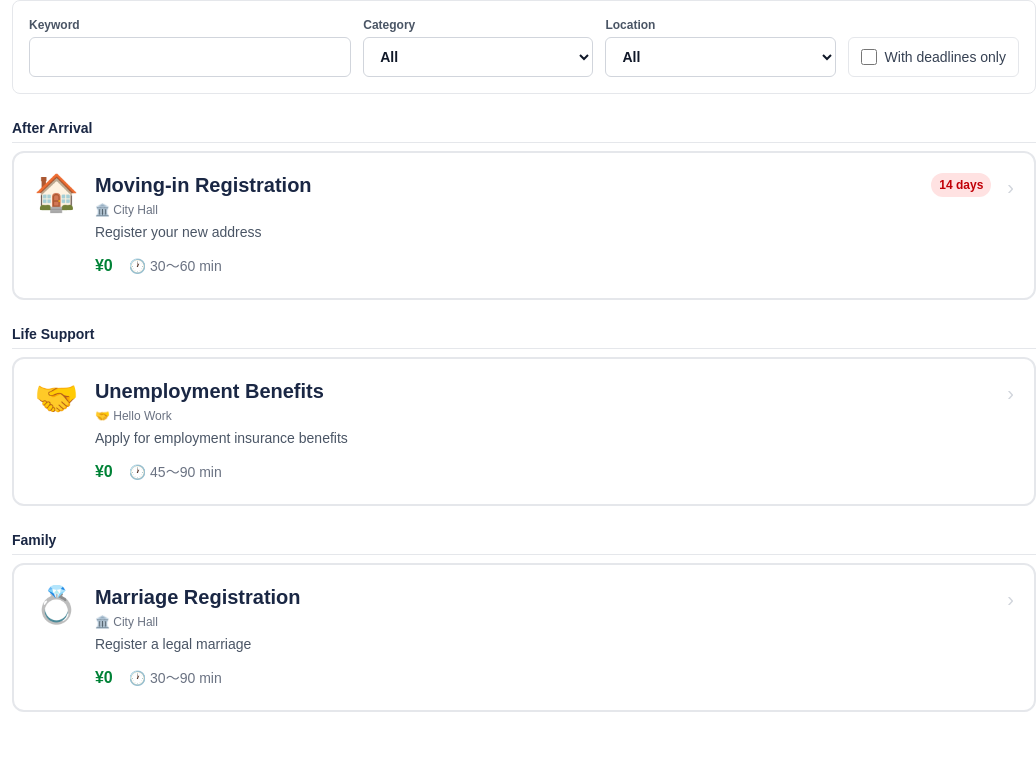
ProcedureFilter › filters by text
Type "marriage" into the search field labelled "Keyword".
click(190, 57); type("marriage")  # box [29, 37, 351, 77]
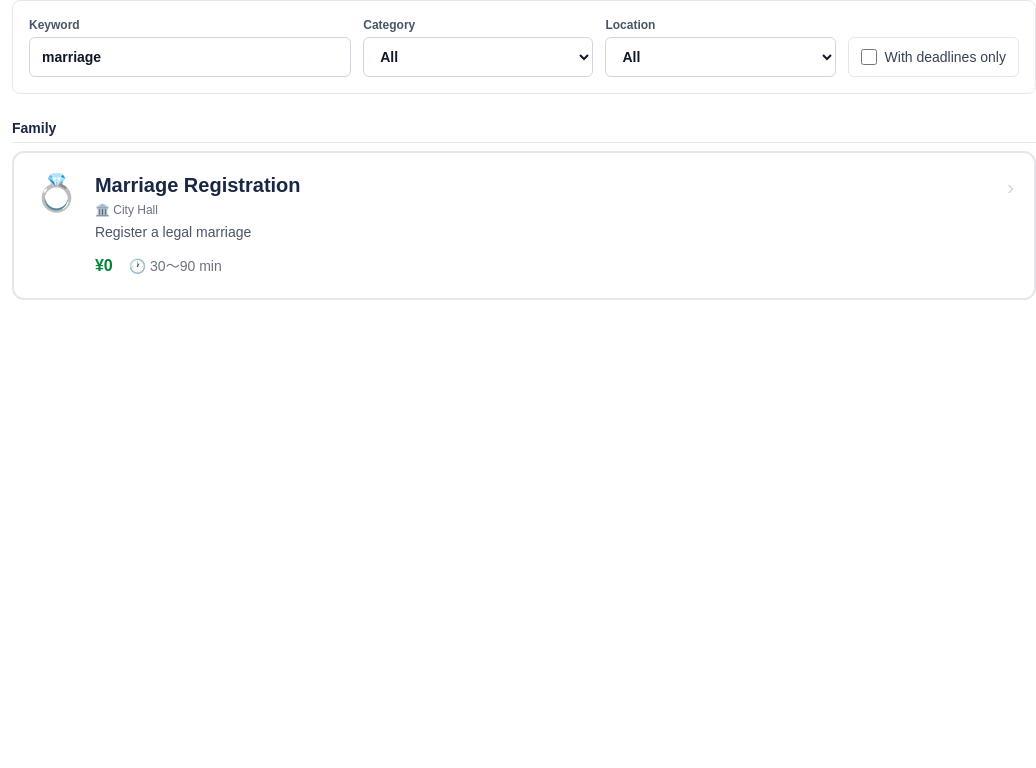
Expected: the heading "Marriage Registration" is shown, [95, 173, 300, 198]
Now the link "Moving-in Registration" is gone
